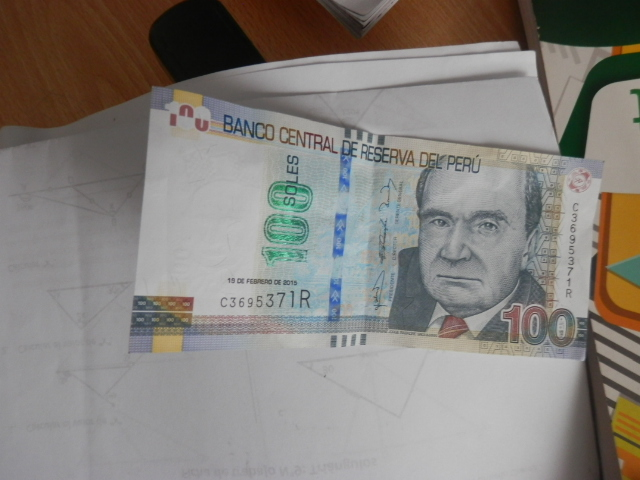B100: (127, 86, 589, 369)
